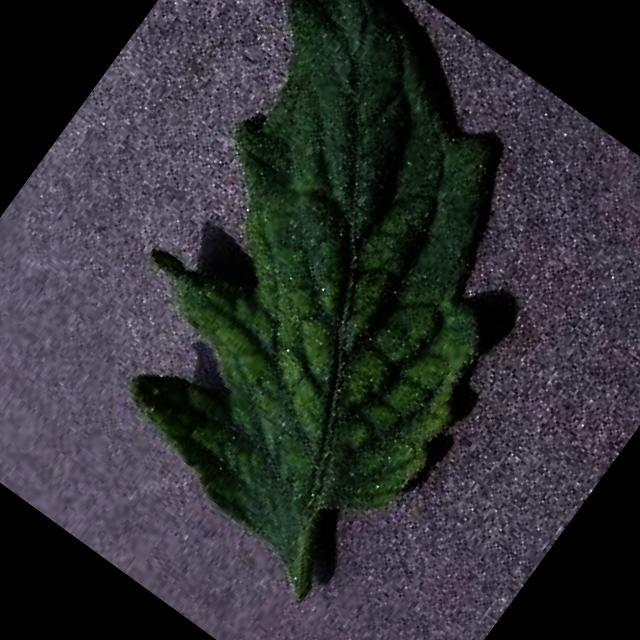Tomato mosaic virus leaf: (17, 0, 640, 593)
